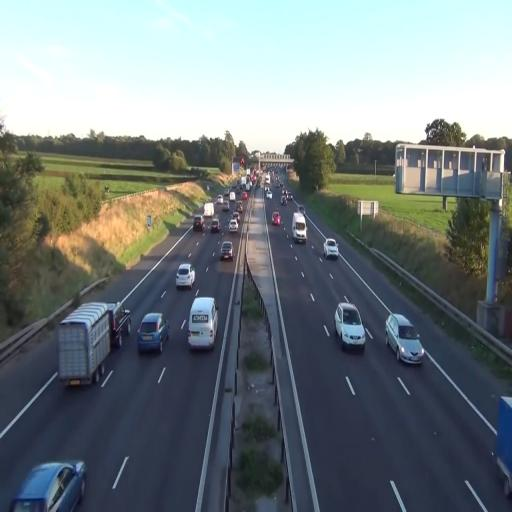vehicle: (56, 303, 114, 390), (10, 459, 86, 512), (384, 312, 424, 366), (188, 296, 218, 351), (334, 302, 366, 352), (138, 312, 170, 355), (176, 262, 196, 288), (292, 211, 307, 243), (218, 239, 234, 261), (324, 238, 338, 259), (228, 214, 240, 236), (272, 210, 281, 227)
